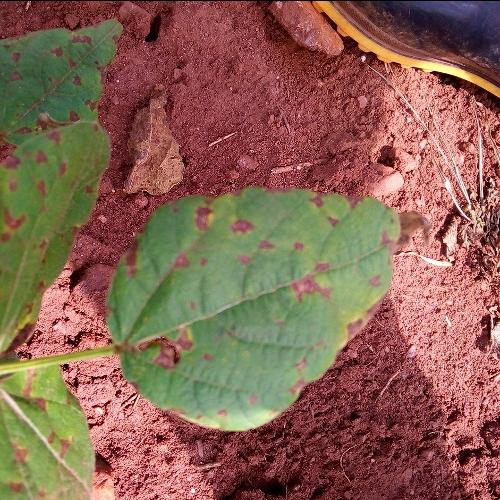mozaik: (162, 181, 408, 333)
